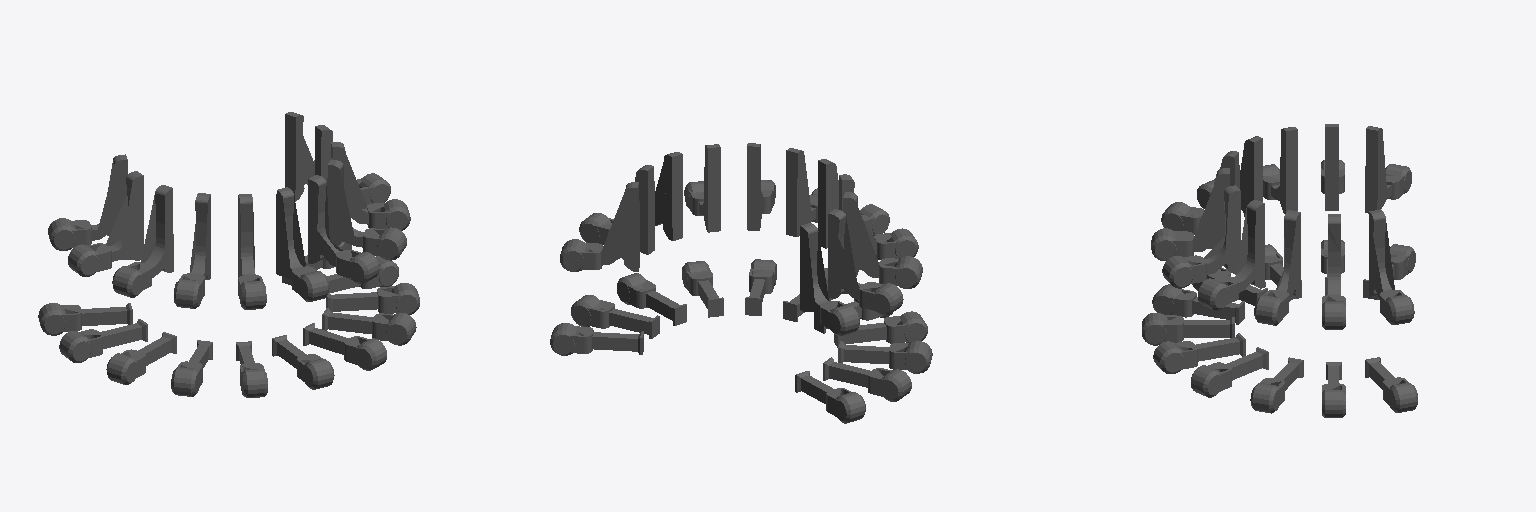
File: Parts1.obj
3 views of the same model, side by side, from view 1: azimuth 30°, elevation 25°; view 2: azimuth 150°, elevation 25°; view 3: azimuth 270°, elevation 25° (orthographic).
Visible parts, largest first — view 1: small_parts_metal; view 2: small_parts_metal; view 3: small_parts_metal.
Boxes of the visible parts, x1,y1,x2,y2 form: small_parts_metal: [38, 112, 419, 397]; small_parts_metal: [550, 143, 932, 423]; small_parts_metal: [1142, 124, 1417, 417].
Bounding box in the file's own units: 0.0293 × 0.0144 × 0.0211.